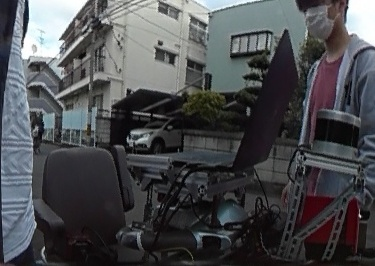person: (290, 0, 375, 212), (30, 111, 43, 148)
